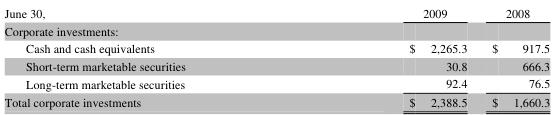table: (3, 3, 549, 109)
table column: (3, 3, 296, 109), (296, 3, 478, 109), (478, 3, 549, 109)
table column header: (3, 3, 549, 21)
table projected row header: (3, 21, 549, 39)
table row: (3, 73, 549, 92), (3, 3, 549, 21), (3, 21, 549, 39), (3, 39, 549, 56), (3, 56, 549, 73), (3, 92, 549, 109)
